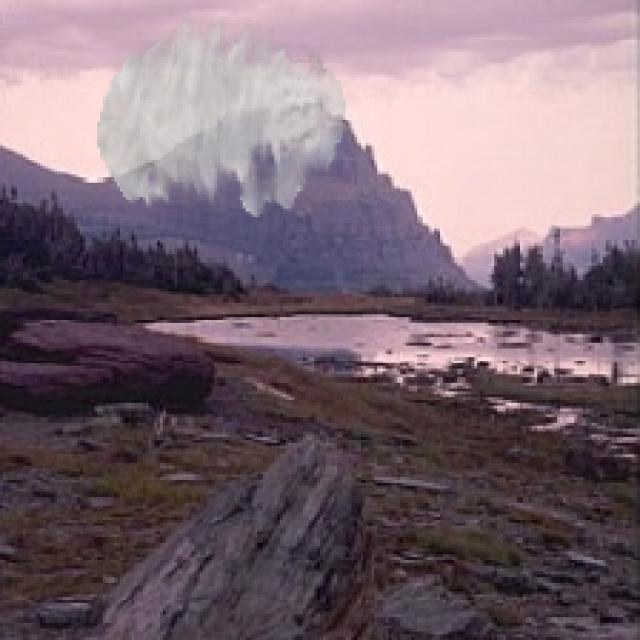smoke: (97, 17, 346, 217)
